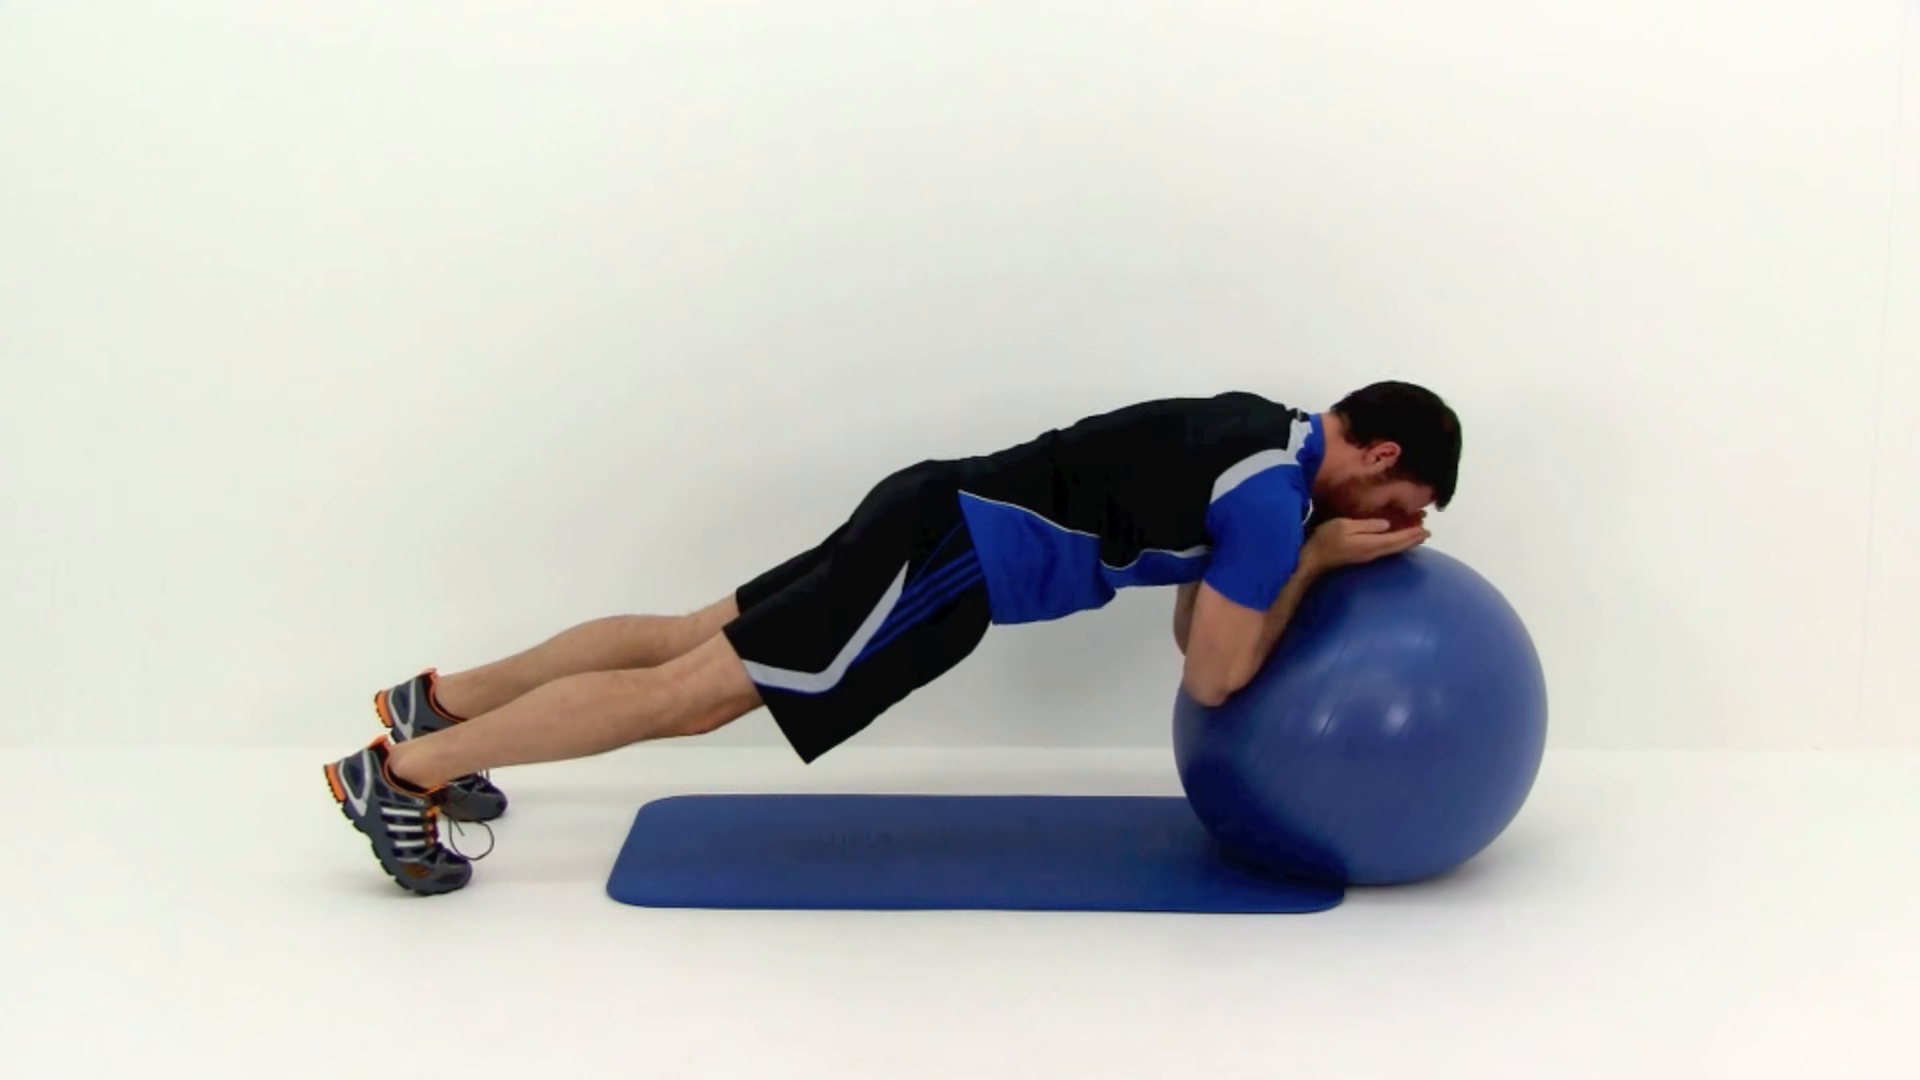yogaball: (1156, 530, 1573, 905)
